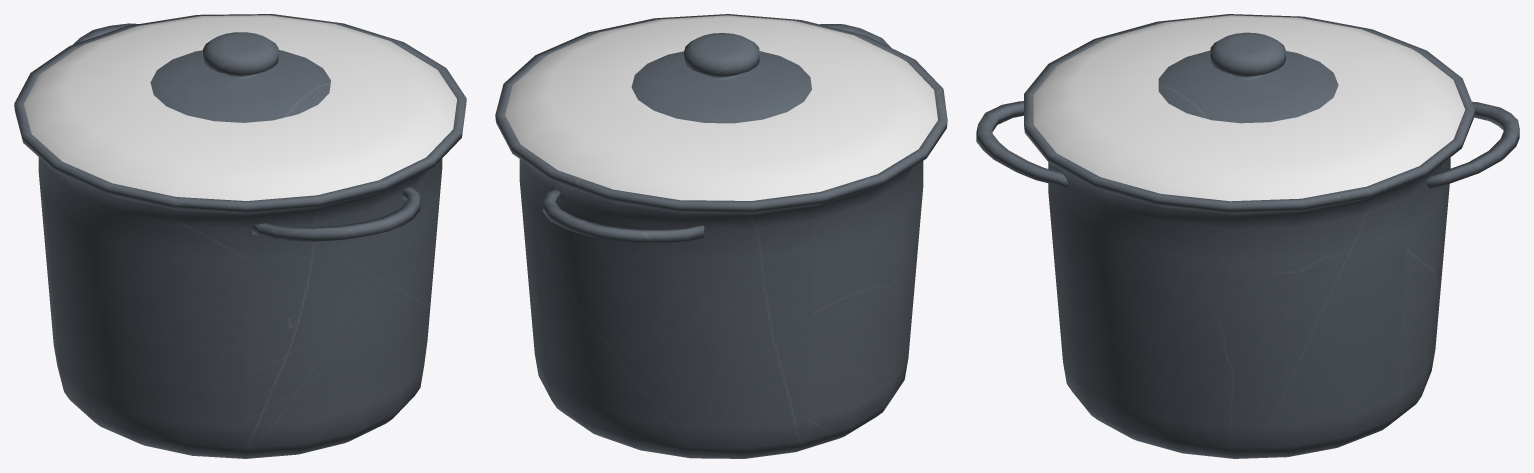
Rendered from mdl_Pot.fbx.
The picture shows the model from 3 angles, left to right: view 1: azimuth 30°, elevation 25°; view 2: azimuth 150°, elevation 25°; view 3: azimuth 270°, elevation 25°; orthographic projection.
Parts seen in each view (by area): view 1: Circle.001; view 2: Circle.001; view 3: Circle.001.
Boxes of the visible parts, x1=… form: Circle.001: x1=14, y1=14, x2=466, y2=458; Circle.001: x1=495, y1=14, x2=947, y2=458; Circle.001: x1=976, y1=14, x2=1519, y2=458.
Size of the model in its own units: 220 by 186 by 264.
